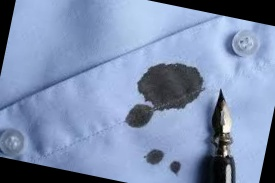ink: (135, 57, 206, 118), (123, 107, 151, 129), (146, 148, 164, 165), (170, 160, 182, 174)
